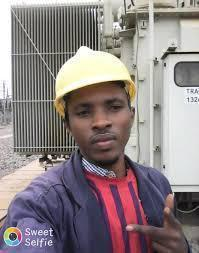helmet: (54, 46, 137, 116)
